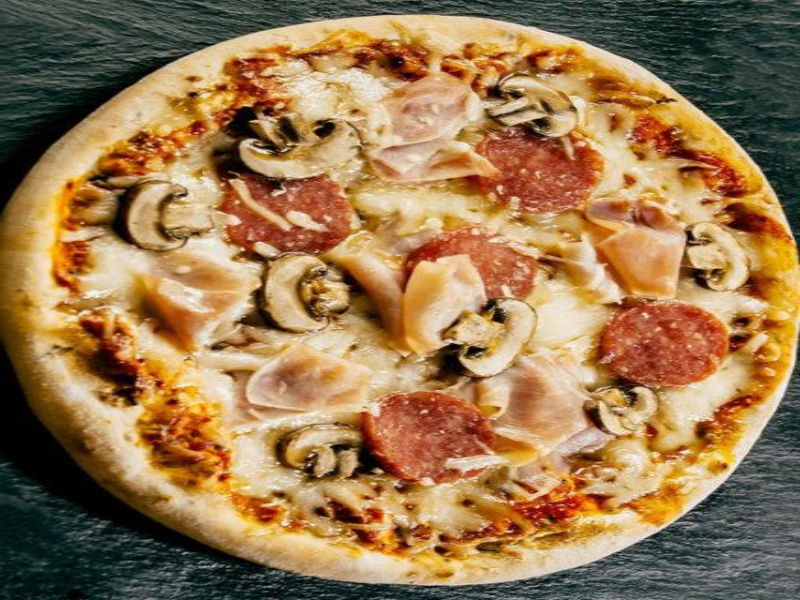champignon: (110, 170, 231, 261), (232, 106, 371, 185), (443, 292, 545, 383), (476, 64, 588, 143), (255, 247, 355, 335), (679, 215, 755, 297), (273, 421, 369, 478), (582, 378, 667, 442)
